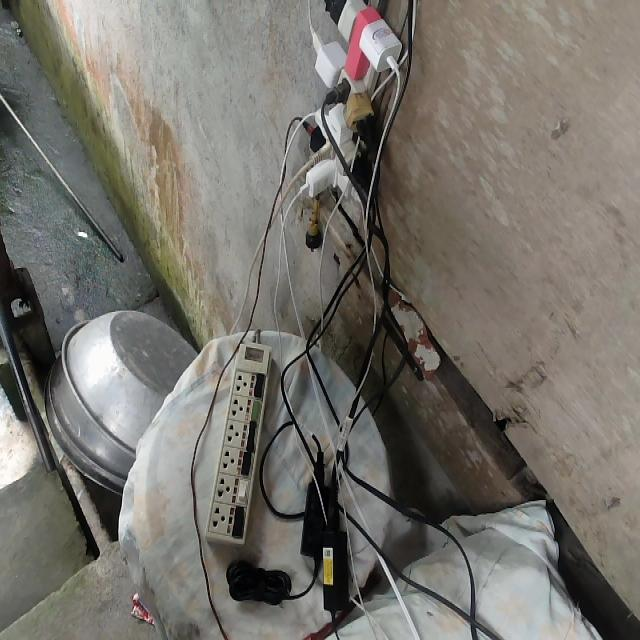-: (296, 0, 403, 193)
